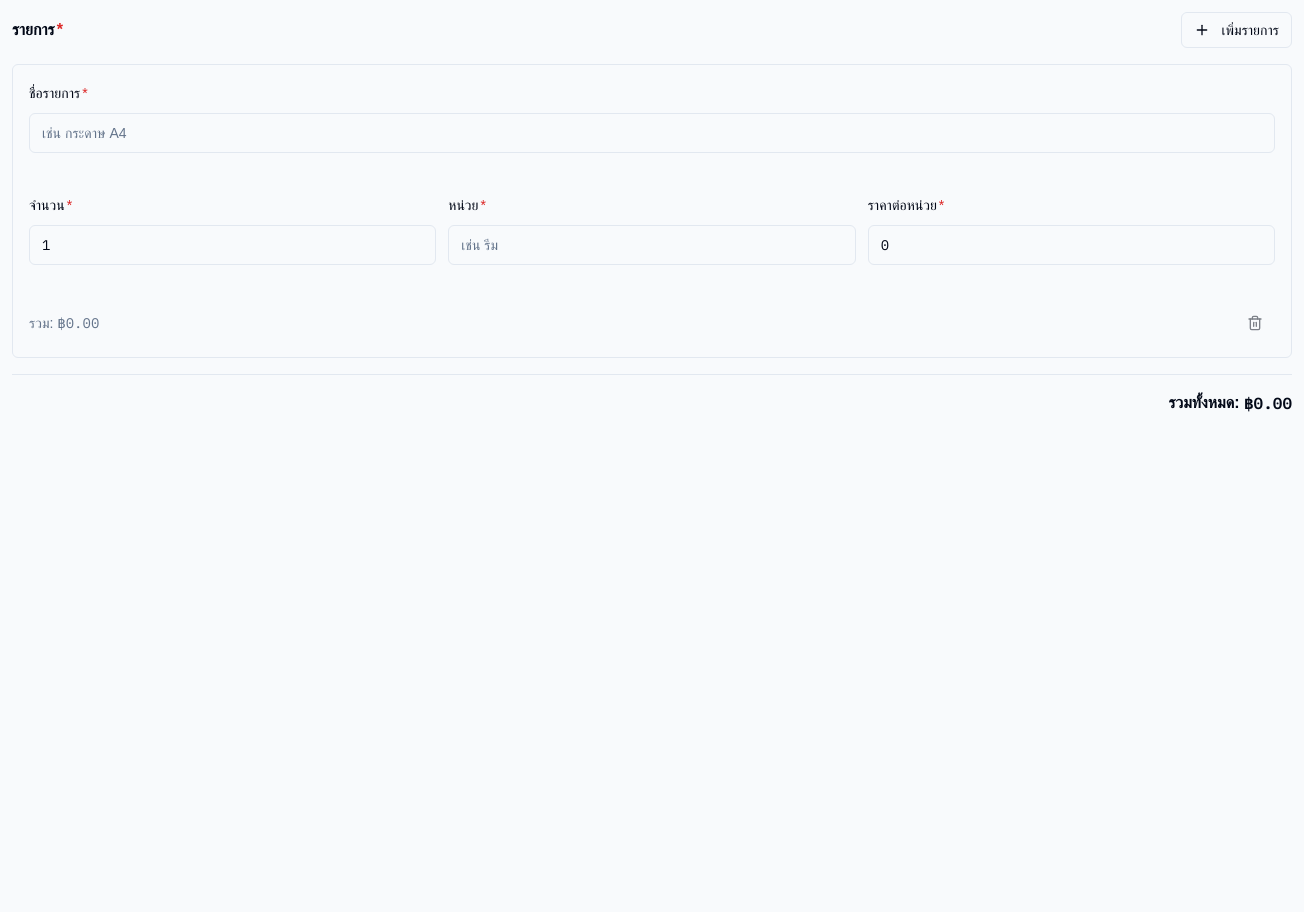
Test: POItemsField › adds a row when clicking เพิ่มรายการ and enables remove
The width and height of the screenshot is (1304, 912).
Click the button "เพิ่มรายการ". click: point(1236, 30)
box: top-left (1181, 12), bottom-right (1292, 48)
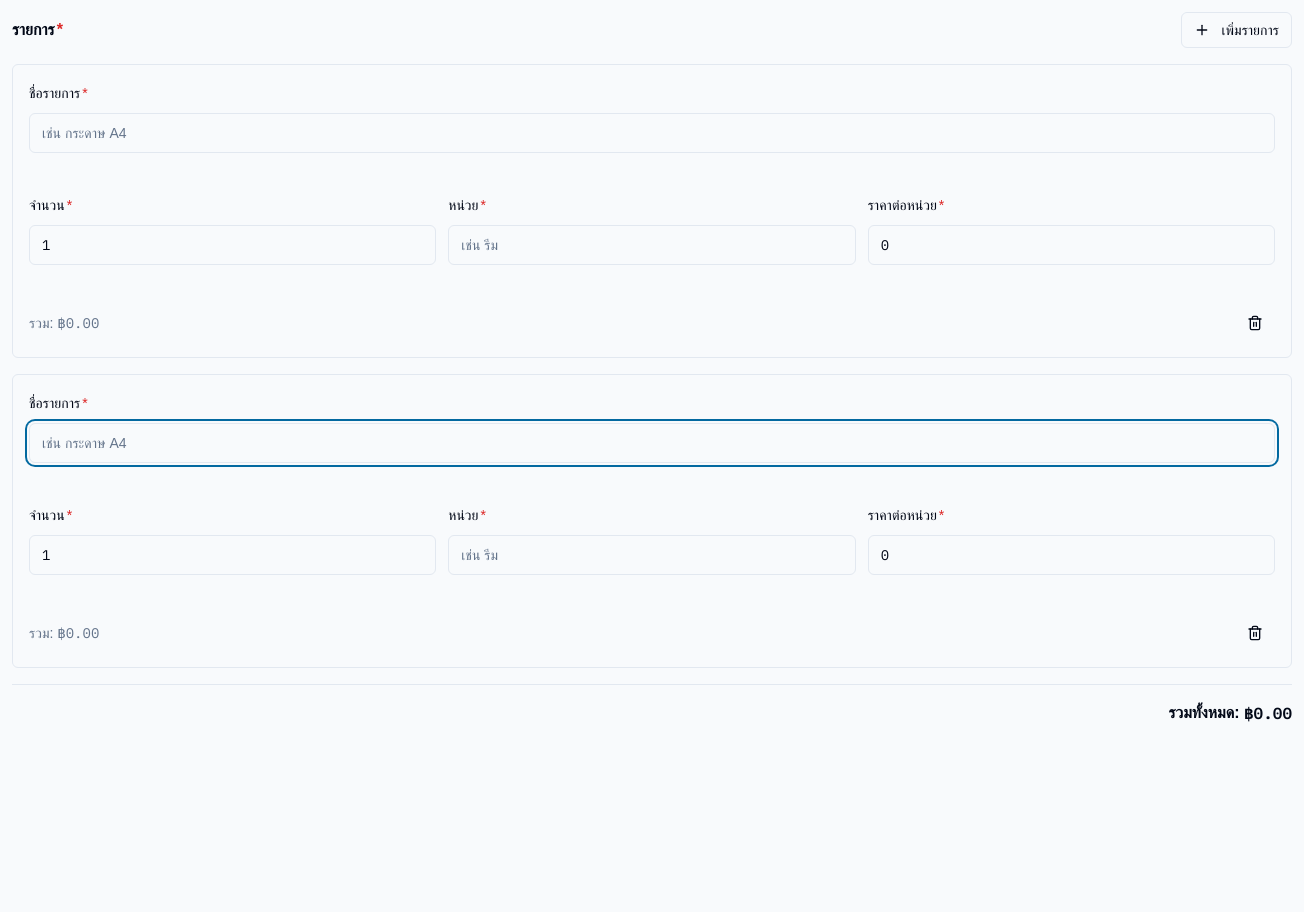
Expected: the number of fields labelled "ชื่อรายการ*" is 2, top-left (29, 113), bottom-right (1275, 153); top-left (29, 423), bottom-right (1275, 463)
Expected: the 1st button named "ลบรายการ" is enabled, top-left (1235, 305), bottom-right (1275, 341)
